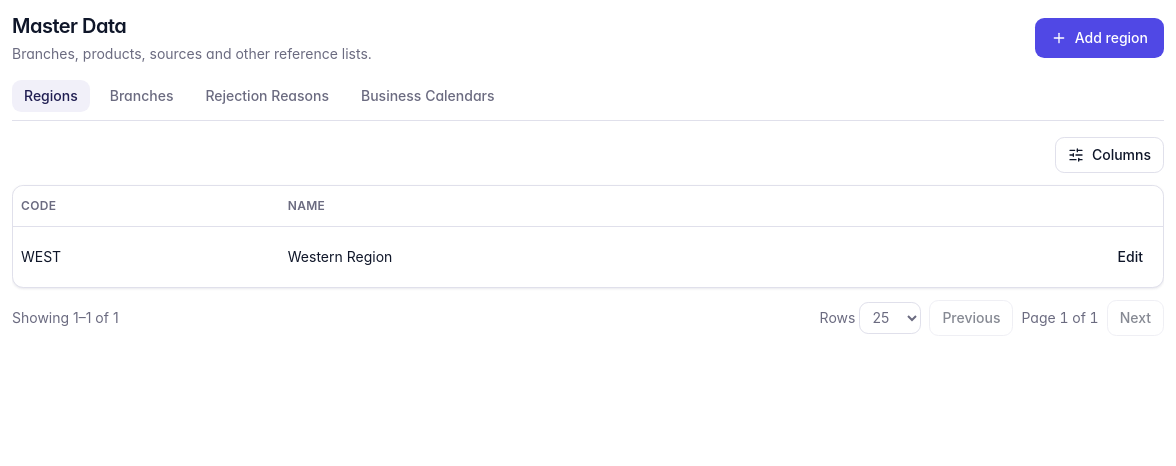
Scenario: MasterDataPage › offers a Deactivate action only for active rows of activeness resources
Click the button "Branches" at (142, 96), box [98,80,185,112]
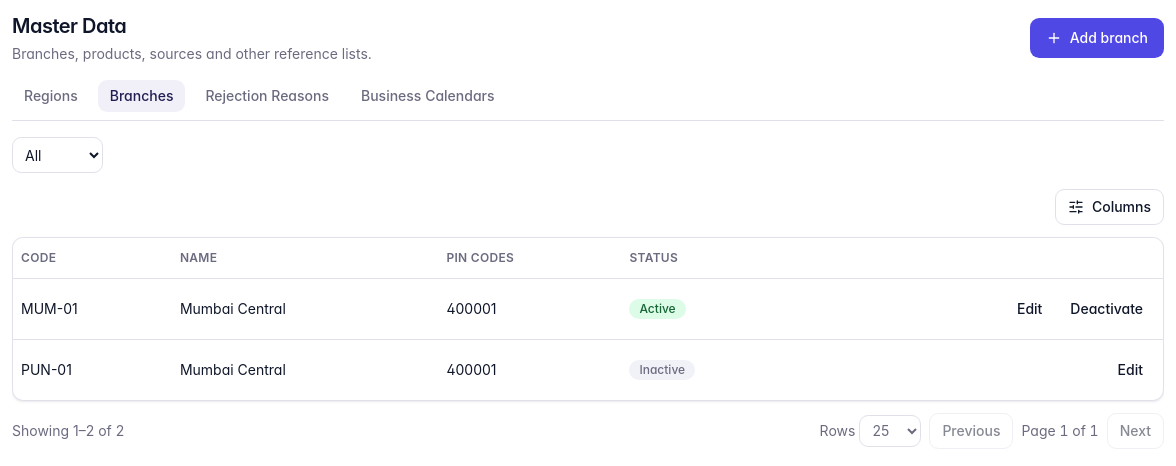
Expected: the number of buttons "Deactivate" is 1, [1058,290,1155,326]
